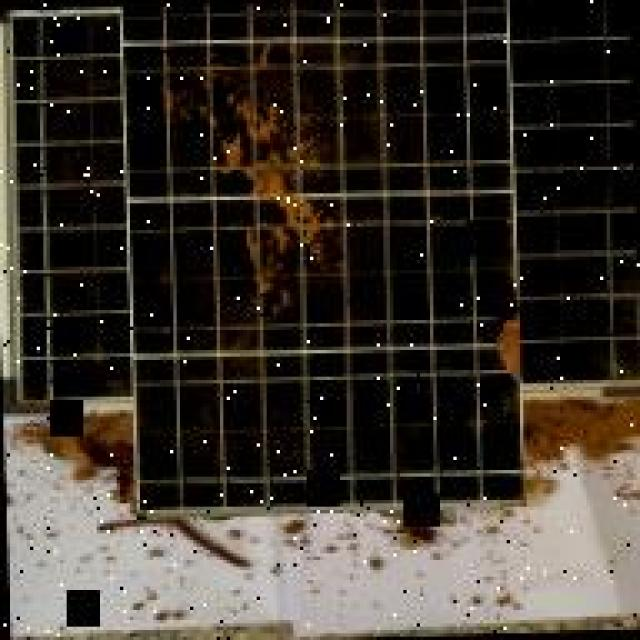dust-solar-panel: (0, 1, 640, 507)
